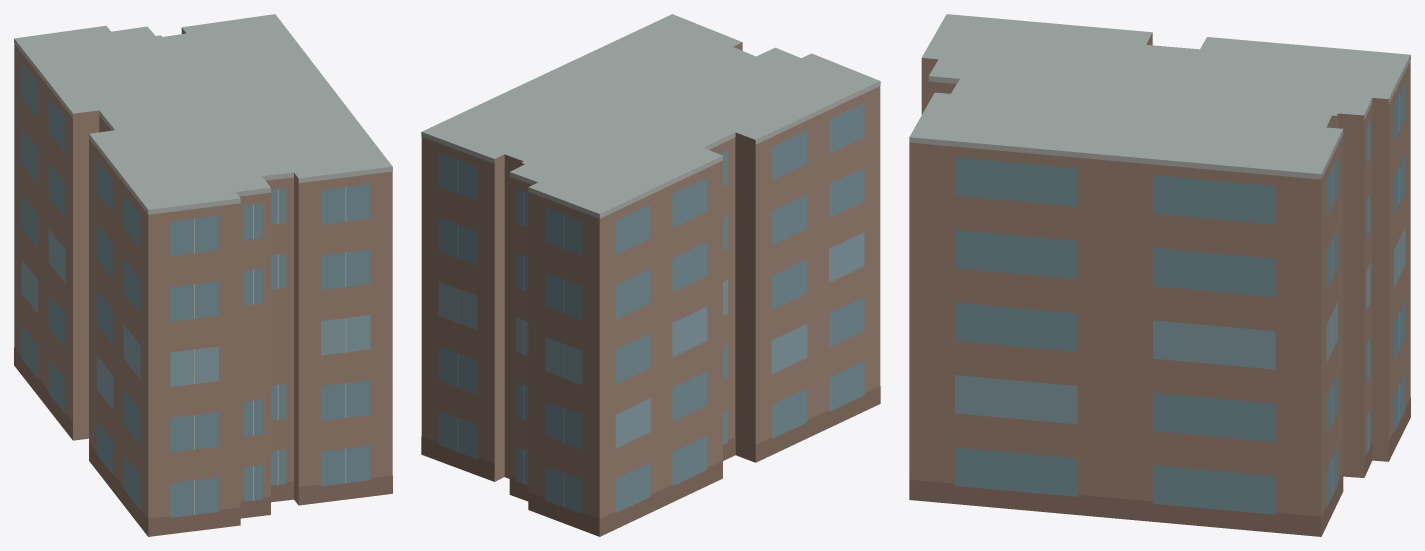
File: survey-upis-32656538.glb
3 renders of one model, left to right at view 1: azimuth 30°, elevation 25°; view 2: azimuth 150°, elevation 25°; view 3: azimuth 270°, elevation 25°, orthographic. The views are drawn at different scales.
Visible parts, largest first — view 1: survey-upis-32656538.tmp; view 2: survey-upis-32656538.tmp; view 3: survey-upis-32656538.tmp.
Boxes of the visible parts, left/top/right/bottom form: survey-upis-32656538.tmp: left=14, top=14, right=392, bottom=536; survey-upis-32656538.tmp: left=421, top=14, right=880, bottom=536; survey-upis-32656538.tmp: left=909, top=14, right=1410, bottom=536.
Bounding box in the file's own units: 15.55 × 16.4 × 20.56.
